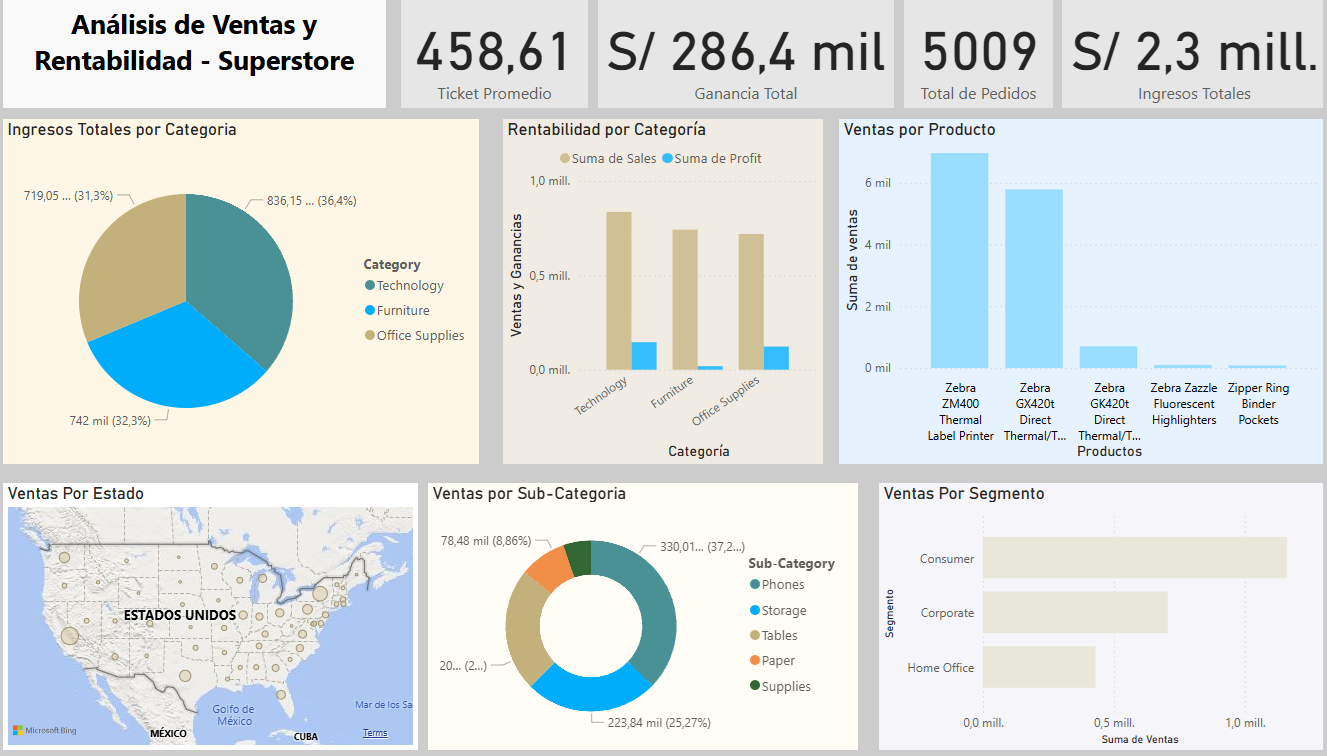

Layout of this report page (visuals, bound fields, positions):
{"tool":"powerbi","page":{"name":"Página 1","canvas":[1320,750],"ordinal":0},"visuals":[{"type":"card","fields":{"Values":["Sample - Superstore.Ganancia Total"]},"box":[595,0,296.2,107.5],"z":0},{"type":"card","fields":{"Values":["Sample - Superstore.Ingresos Totales"]},"box":[1058.8,0,265,107.5],"z":1000},{"type":"card","fields":{"Values":["Sample - Superstore.Ticket Promedio"]},"box":[397.5,0,187.5,107.5],"z":2000},{"type":"card","fields":{"Values":["Sample - Superstore.Total de Pedidos"]},"box":[901.2,0,148.8,107.5],"z":3000},{"type":"pieChart","title":"Ingresos Totales por Categoria","fields":{"Category":["Sample - Superstore.Category"],"Y":["Sample - Superstore.Ingresos Totales"]},"box":[0,118.8,476.2,345],"z":4000},{"type":"clusteredColumnChart","title":"Ventas por Producto","fields":{"Category":["Sample - Superstore.Product Name"],"Y":["Sum(Sample - Superstore.Sales)"]},"box":[836.2,118.8,483.8,345],"z":5000},{"type":"map","title":"Ventas Por Estado","fields":{"Size":["Sum(Sample - Superstore.Sales)"],"Category":["Sample - Superstore.State"]},"box":[0,482.5,415,267.5],"z":6000},{"type":"barChart","title":"Ventas Por Segmento","fields":{"Category":["Sample - Superstore.Segment"],"Y":["Sum(Sample - Superstore.Sales)"]},"box":[876.2,482.5,443.8,267.5],"z":7000},{"type":"donutChart","title":"Ventas por Sub-Categoria","fields":{"Category":["Sample - Superstore.Sub-Category"],"Y":["Sum(Sample - Superstore.Sales)"]},"box":[425,482.5,430,267.5],"z":8000},{"type":"clusteredColumnChart","title":"Rentabilidad por Categoría","fields":{"Category":["Sample - Superstore.Category"],"Y":["Sum(Sample - Superstore.Sales)","Sum(Sample - Superstore.Profit)"]},"box":[500,118.8,320,345],"z":9000},{"type":"textbox","box":[0,0,382.5,107.5],"z":10000}]}

Visuals, with their boxes in screenshot pixels (x1, y1, x2, y2), scaled from the page's 1320x750 canvas onto the 1327x756 screenshot:
card - Sample - Superstore.Ganancia Total: left=598, top=0, right=896, bottom=108
card - Sample - Superstore.Ingresos Totales: left=1064, top=0, right=1326, bottom=108
card - Sample - Superstore.Ticket Promedio: left=400, top=0, right=588, bottom=108
card - Sample - Superstore.Total de Pedidos: left=906, top=0, right=1056, bottom=108
"Ingresos Totales por Categoria" pieChart: left=0, top=120, right=479, bottom=468
"Ventas por Producto" clusteredColumnChart: left=841, top=120, right=1326, bottom=468
"Ventas Por Estado" map: left=0, top=486, right=417, bottom=755
"Ventas Por Segmento" barChart: left=881, top=486, right=1326, bottom=755
"Ventas por Sub-Categoria" donutChart: left=427, top=486, right=860, bottom=755
"Rentabilidad por Categoría" clusteredColumnChart: left=503, top=120, right=824, bottom=468
textbox: left=0, top=0, right=385, bottom=108
